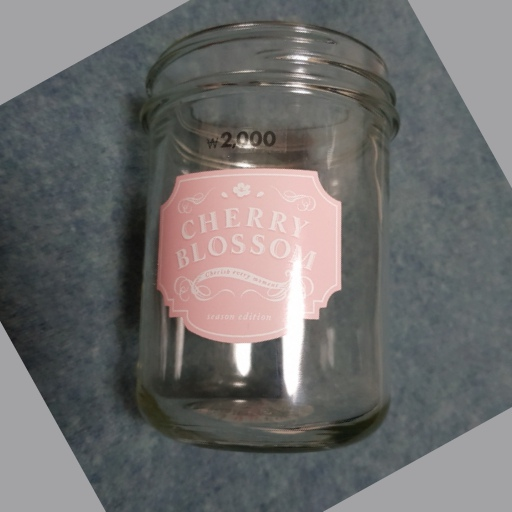Glass_5: (130, 19, 399, 452)
